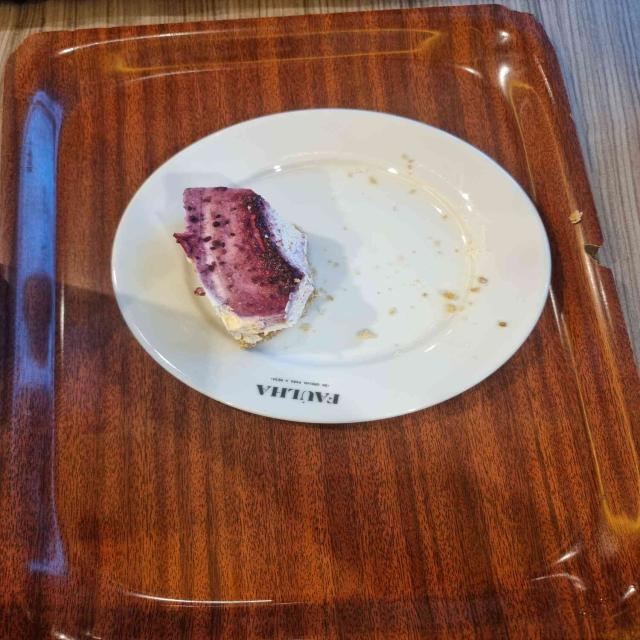cake: (174, 187, 314, 346)
plate: (111, 109, 550, 423)
